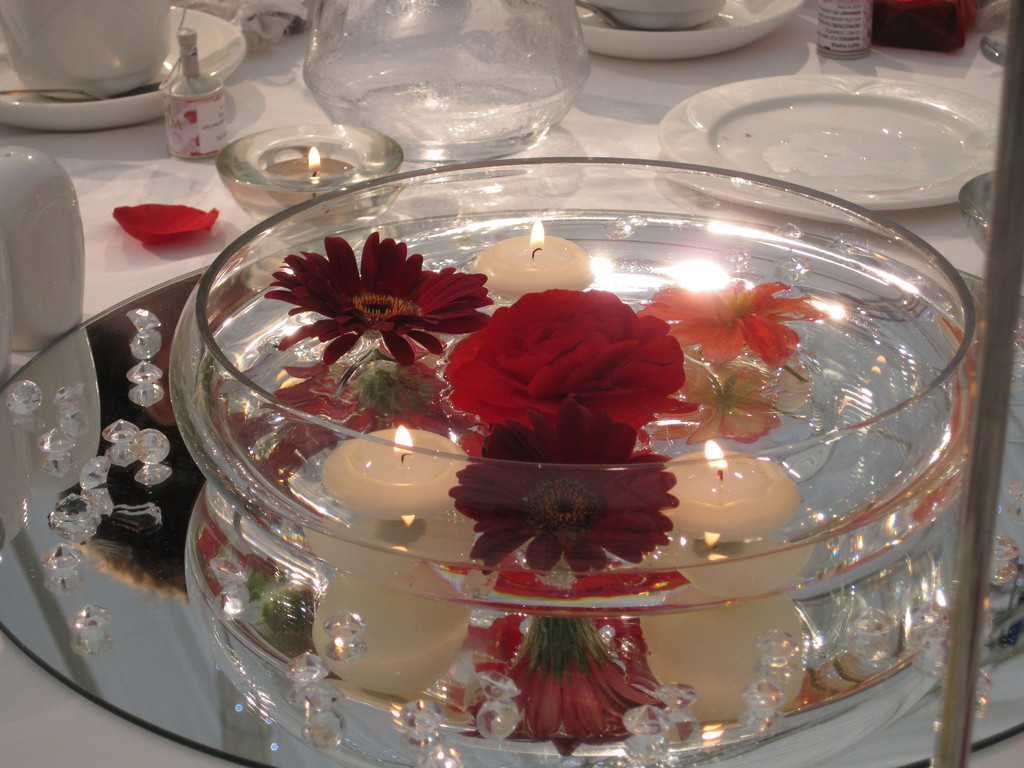plate: (657, 69, 1002, 211)
